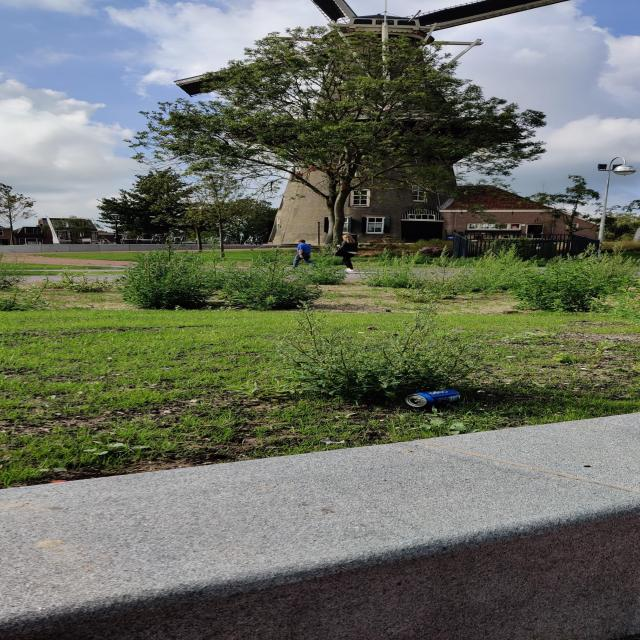litter: (397, 379, 478, 405)
